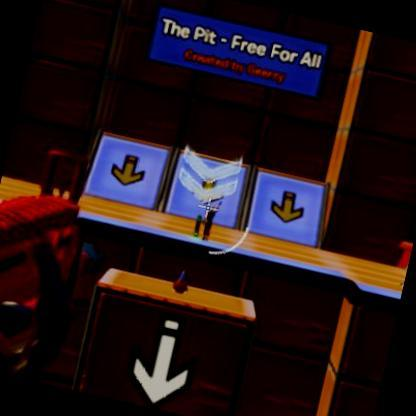person: (201, 208, 219, 239)
